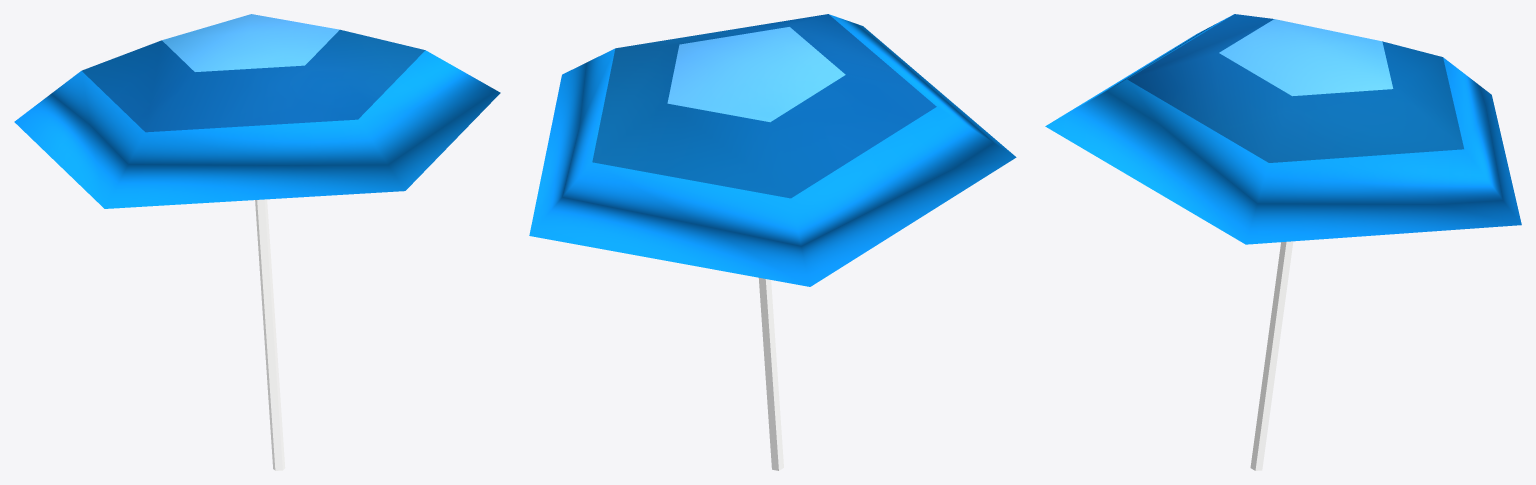
The model's file is BeachUmbrellaBlue.glb.
3 renders of one model, left to right at view 1: azimuth 30°, elevation 25°; view 2: azimuth 150°, elevation 25°; view 3: azimuth 270°, elevation 25°, orthographic. The views are drawn at different scales.
Parts seen in each view (by area): view 1: BeachUmbrellaBlue; view 2: BeachUmbrellaBlue; view 3: BeachUmbrellaBlue.
Boxes of the visible parts, x1,y1,x2,y2 form: BeachUmbrellaBlue: (14, 14, 500, 470); BeachUmbrellaBlue: (529, 14, 1016, 470); BeachUmbrellaBlue: (1045, 14, 1521, 470).
Size of the model in its own units: 2.41 by 2.28 by 2.35.
1 material, 1 textured.
